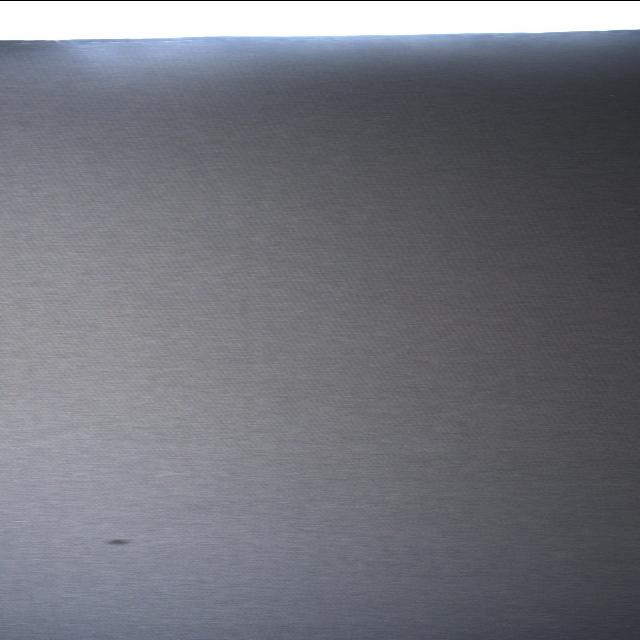crease: (90, 41, 240, 232), (223, 282, 270, 395)
